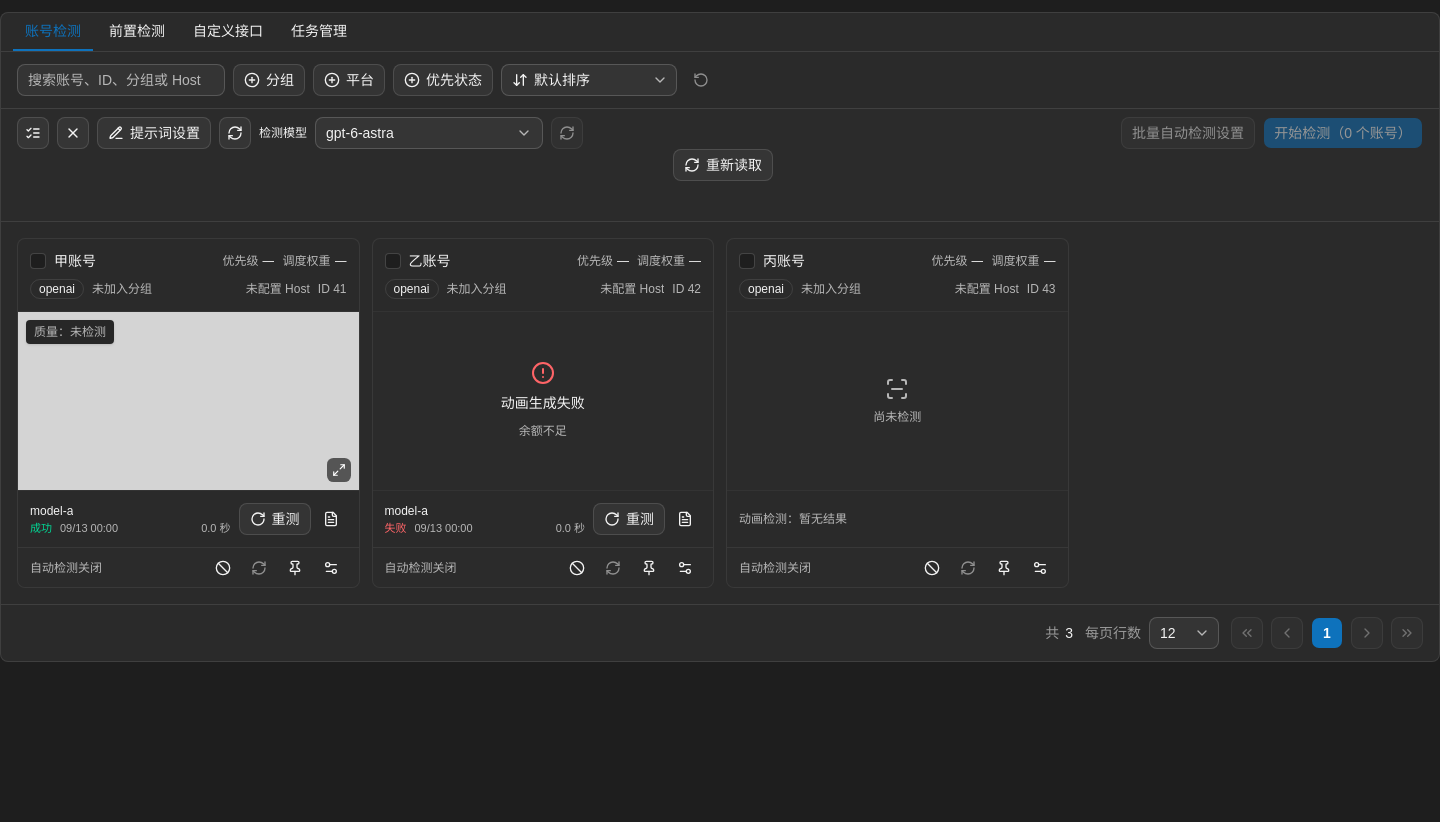
检测记录读取失败时在操作行提供重试，恢复后保留卡片结果
Click the button named "重新读取检测记录" at x=235, y=133, box [219, 117, 251, 149]
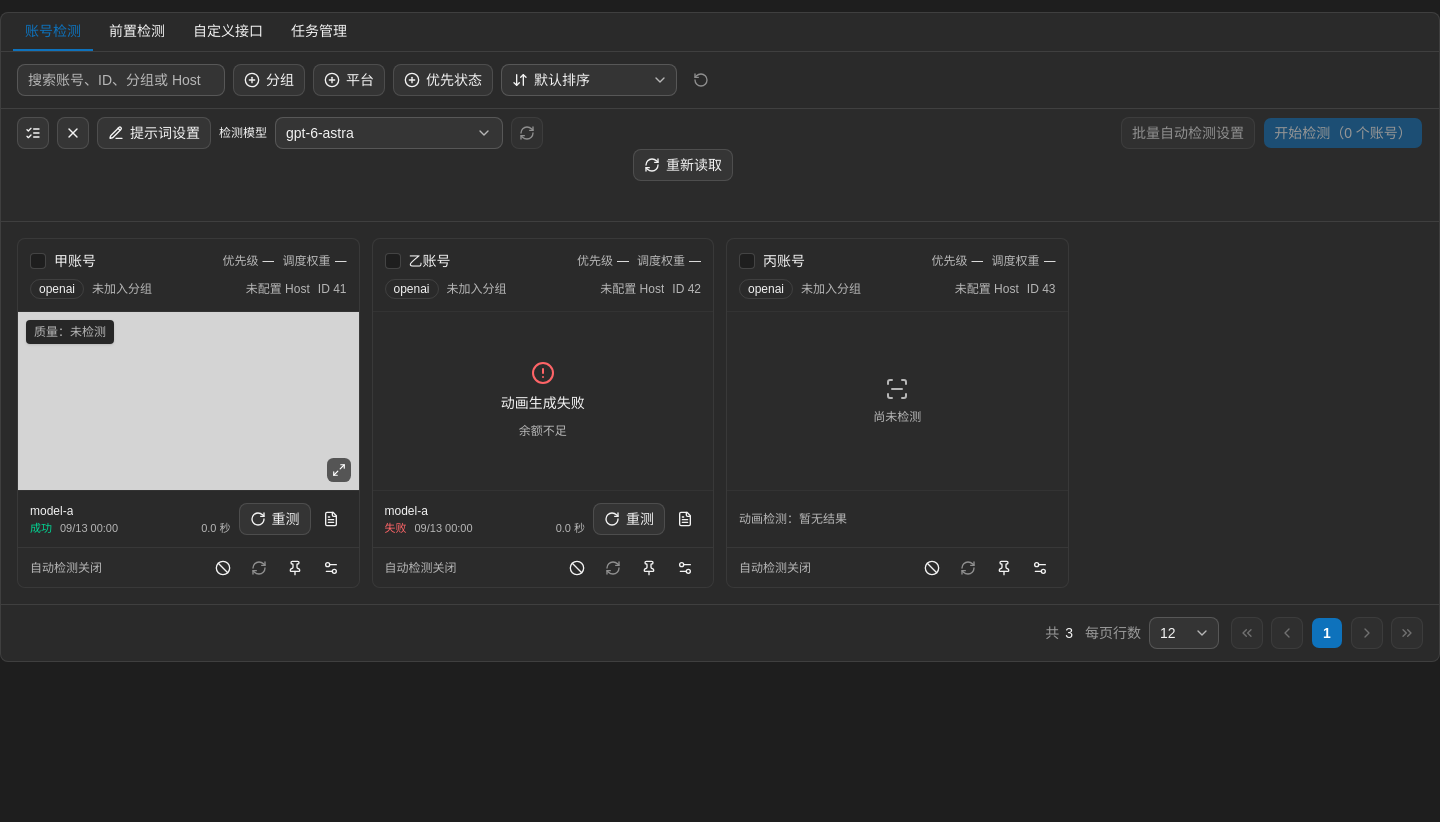
Expected: the button "重新读取检测记录" is gone
